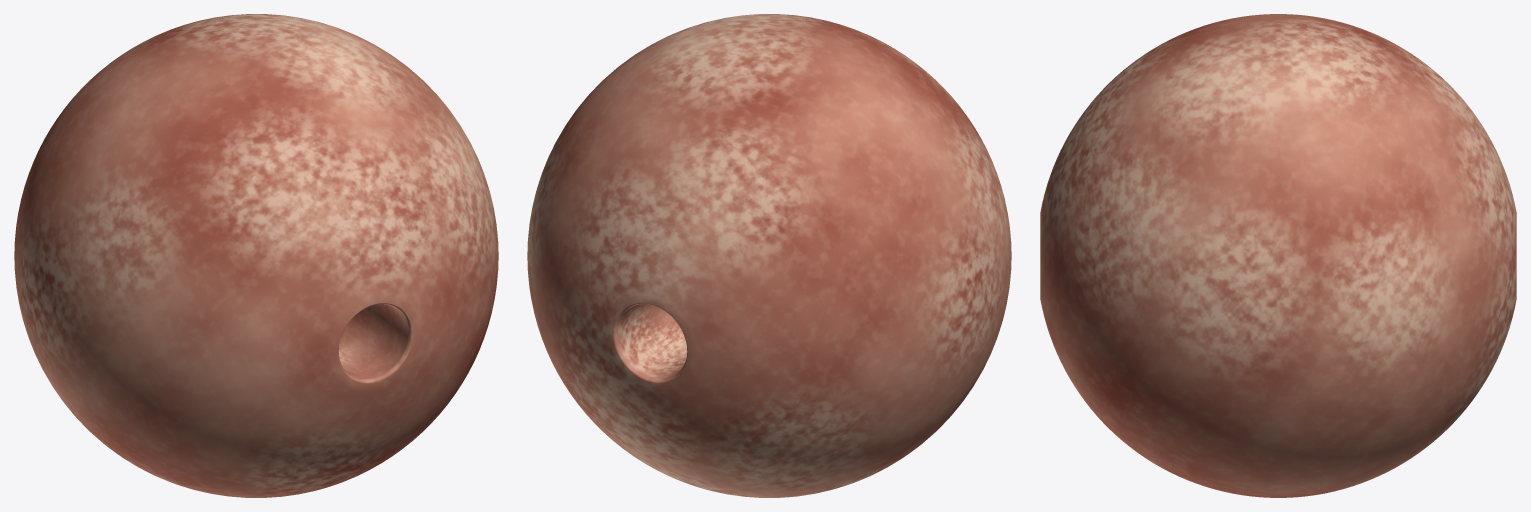
Rendered from flower-agate-6mm.glb.
3 renders of one model, left to right at view 1: azimuth 30°, elevation 25°; view 2: azimuth 150°, elevation 25°; view 3: azimuth 270°, elevation 25°, orthographic.
Visible parts, largest first — view 1: flower-agate.001; view 2: flower-agate.001; view 3: flower-agate.001.
Part boxes in pixels (<box>): flower-agate.001: <box>14,14,498,497</box>; flower-agate.001: <box>527,14,1011,497</box>; flower-agate.001: <box>1040,14,1516,497</box>.
Size of the model in its own units: 0.006 by 0.006 by 0.0059.
Materials: 2 (1 with a texture image).
